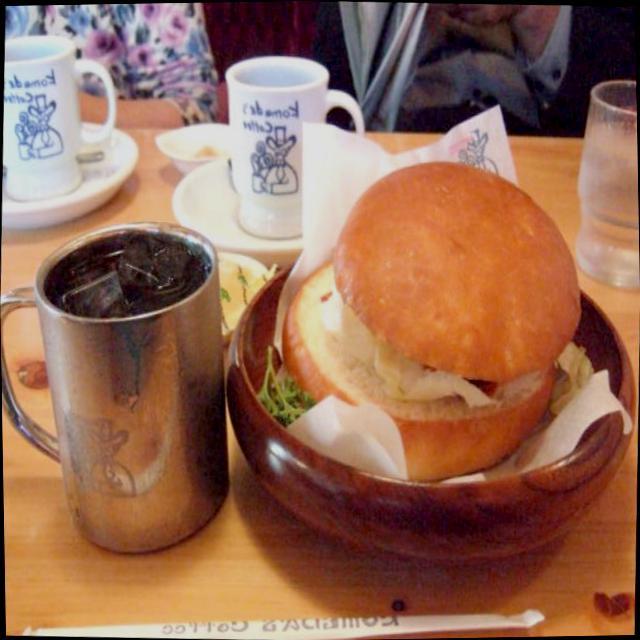Hamburger: (272, 141, 598, 475)
